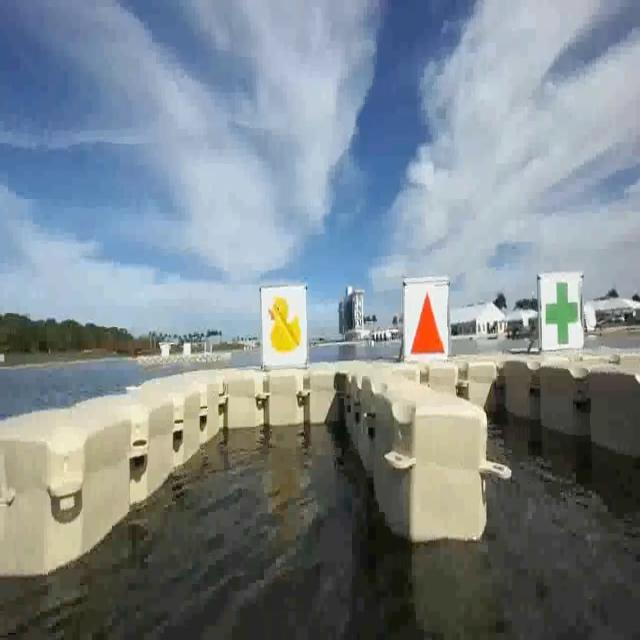blue-cross: (542, 276, 583, 352)
red-dot: (399, 268, 448, 361)
yellow-duck: (268, 293, 302, 352)
